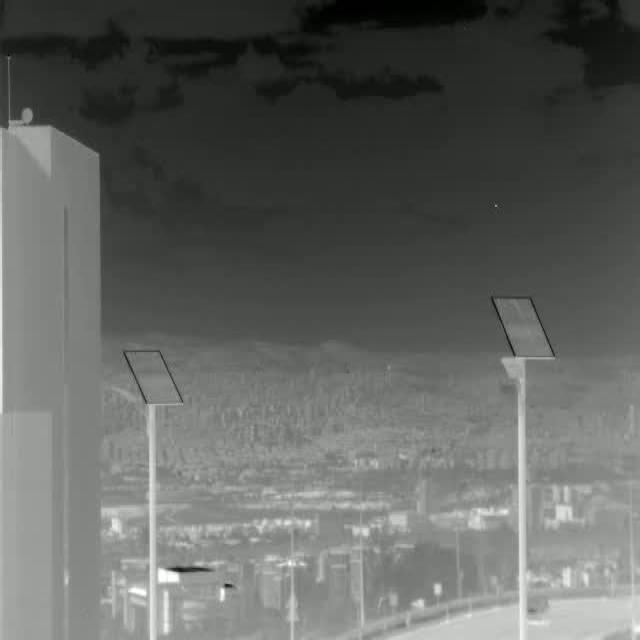Car: (528, 594, 552, 619)
